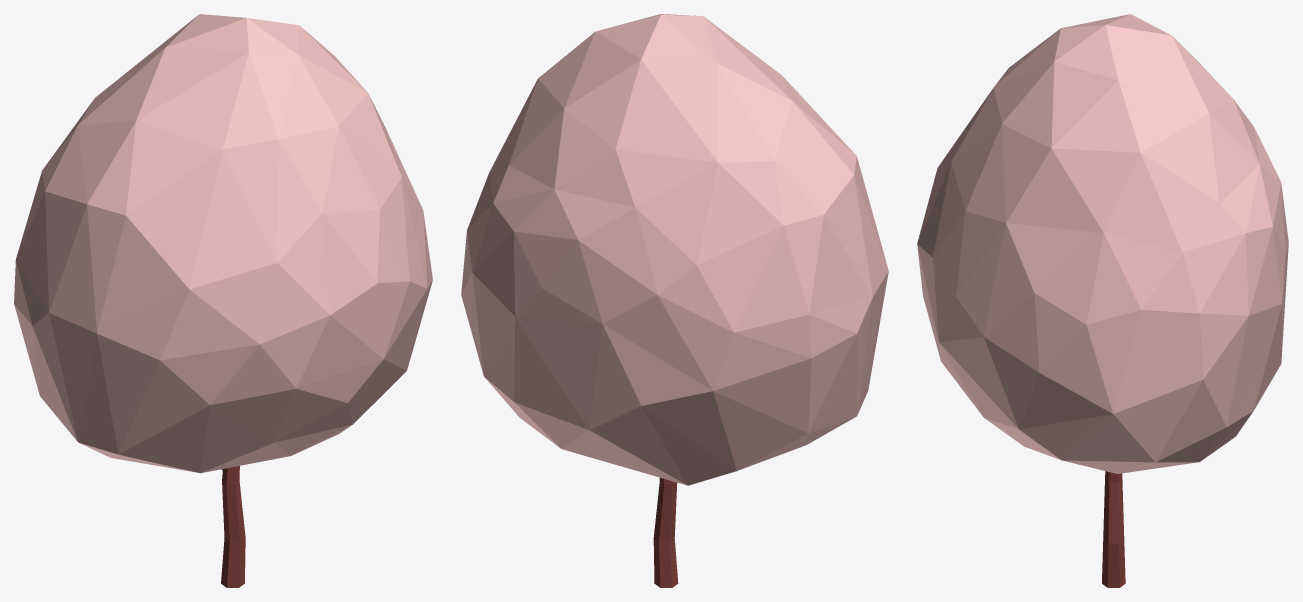
Rendered from Maple_flat_red.glb.
3 views of the same model, side by side, from view 1: azimuth 30°, elevation 25°; view 2: azimuth 150°, elevation 25°; view 3: azimuth 270°, elevation 25° (orthographic).
Visible parts, largest first — view 1: Maple red f; view 2: Maple red f; view 3: Maple red f.
Part boxes in pixels (bbox=[...]): Maple red f: bbox=[14, 14, 432, 587]; Maple red f: bbox=[461, 14, 888, 587]; Maple red f: bbox=[917, 14, 1288, 587].
Size of the model in its own units: 8.74 by 12.41 by 7.42.
